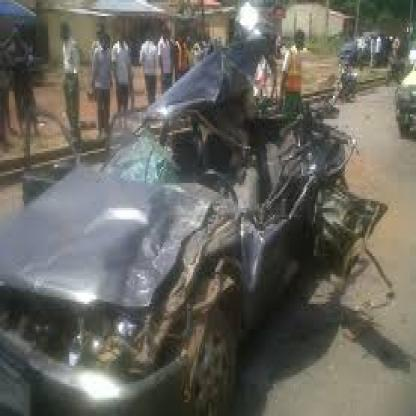accident: (2, 29, 391, 416)
